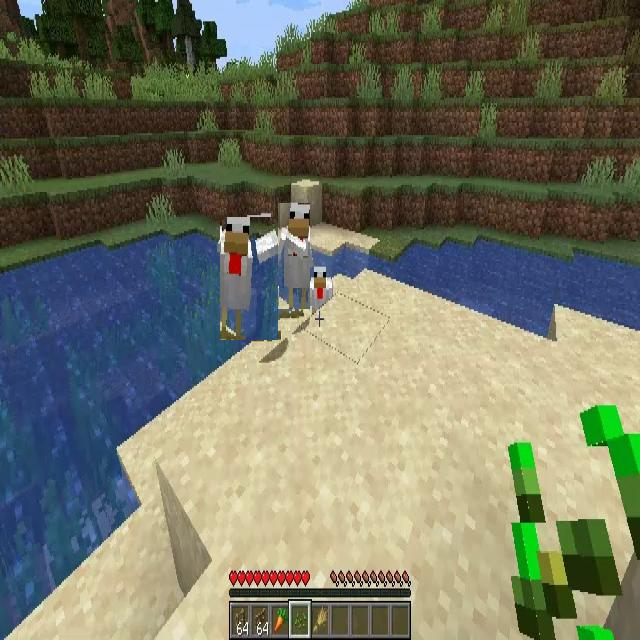duck: (220, 217, 278, 340), (278, 203, 310, 309), (308, 269, 332, 313)
